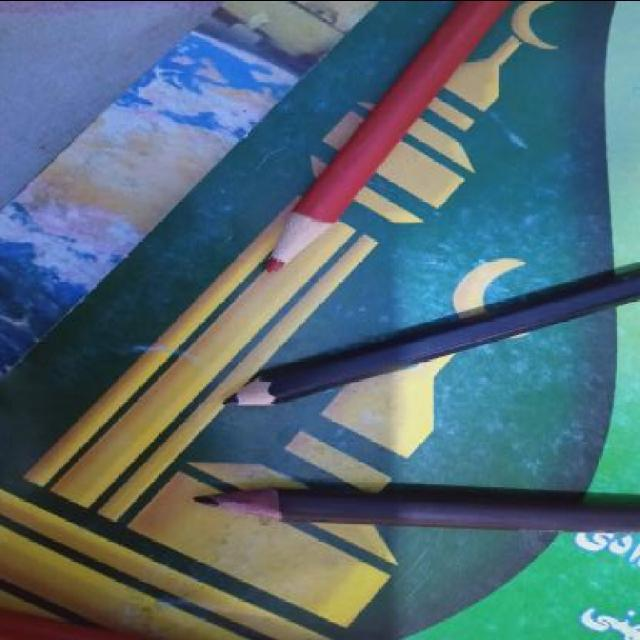pencil: (258, 205, 346, 278), (187, 480, 295, 526), (218, 367, 282, 422)
